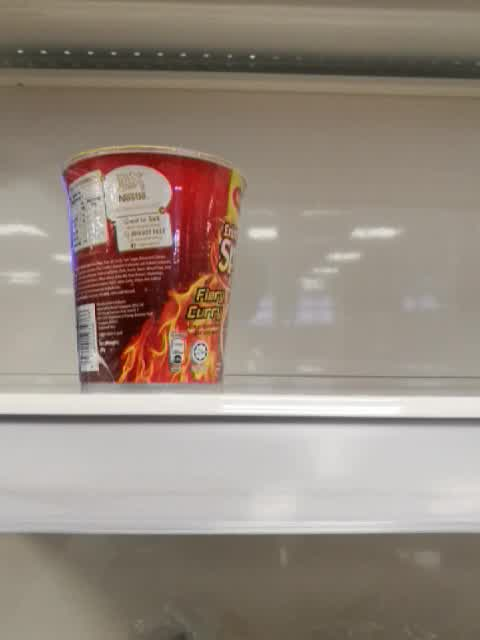maggi: (61, 144, 250, 390)
